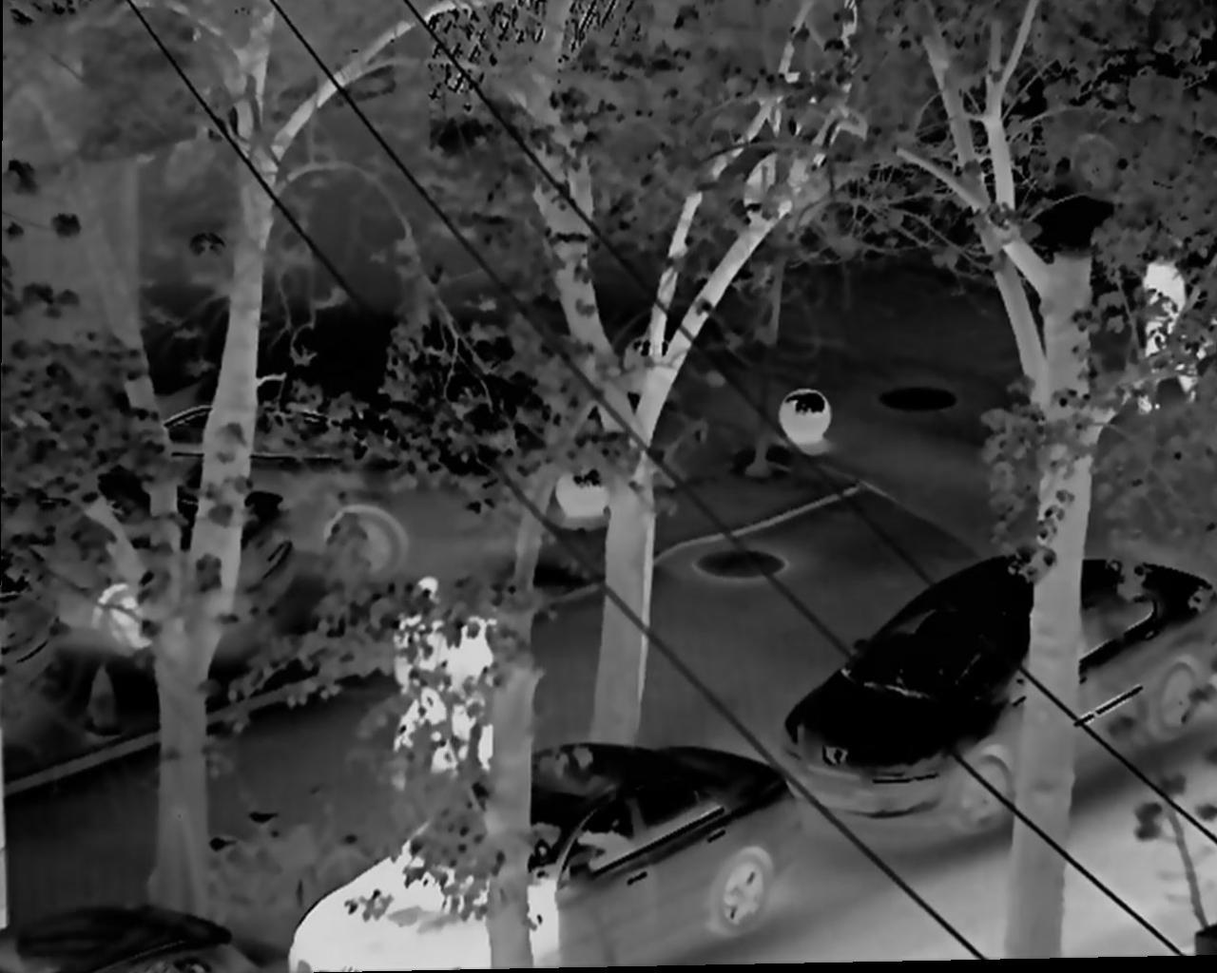person: (382, 563, 454, 794), (1127, 235, 1204, 433), (445, 618, 499, 810)
